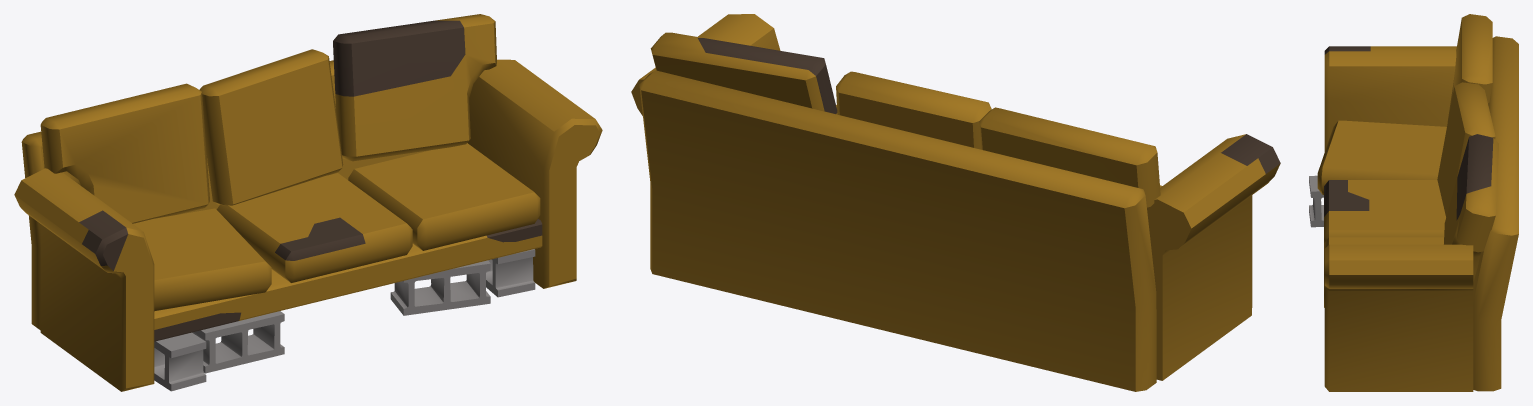
File: cc0-couch-lod1.glb
3 views of the same model, side by side, from view 1: azimuth 30°, elevation 25°; view 2: azimuth 150°, elevation 25°; view 3: azimuth 270°, elevation 25° (orthographic). The views are drawn at different scales.
Visible parts, largest first — view 1: part_0; view 2: part_0; view 3: part_0.
Boxes of the visible parts, x1,y1,x2,y2 form: part_0: (14,14,602,391); part_0: (631,14,1280,391); part_0: (1309,14,1518,391).
Bounding box in the file's own units: 3.01 × 1.24 × 1.21.
1 material, 1 textured.
